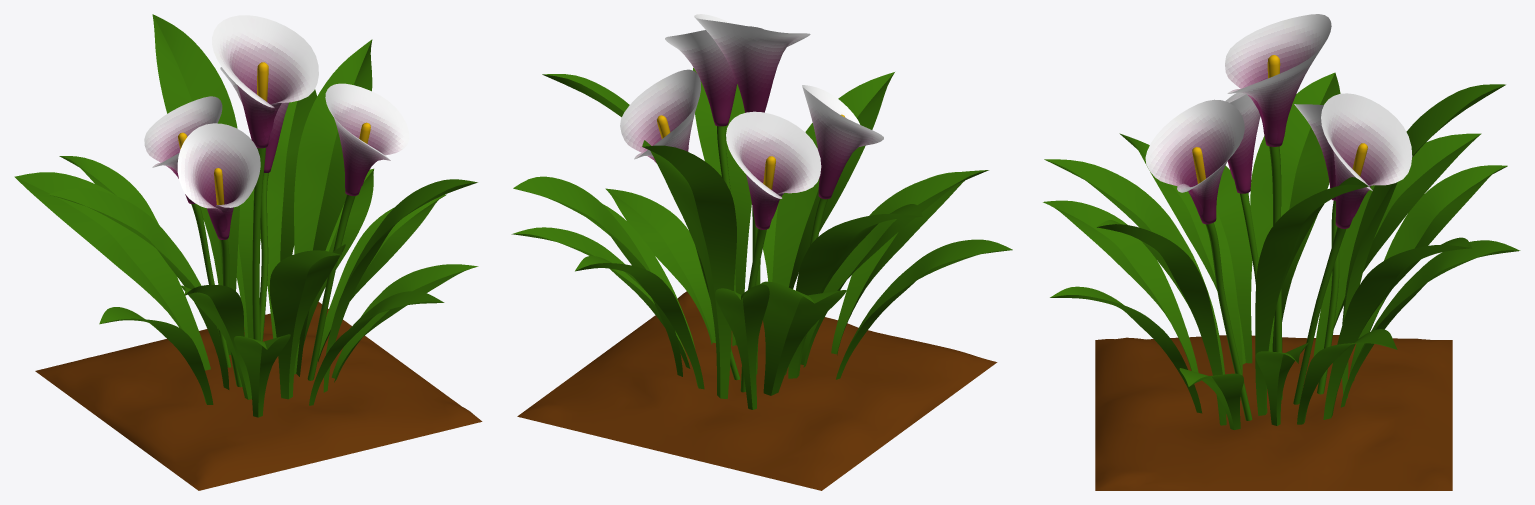
The model's file is purple-white-calla.glb.
3 views of the same model, side by side, from view 1: azimuth 30°, elevation 25°; view 2: azimuth 150°, elevation 25°; view 3: azimuth 270°, elevation 25° (orthographic). The views are drawn at different scales.
Visible parts, largest first — view 1: 4_nft_bloom; view 2: 4_nft_bloom; view 3: 4_nft_bloom.
Boxes of the visible parts, bbox=[...] form: 4_nft_bloom: bbox=[14, 14, 482, 490]; 4_nft_bloom: bbox=[511, 14, 1012, 490]; 4_nft_bloom: bbox=[1043, 14, 1520, 490].
Size of the model in its own units: 0.9841 by 0.8496 by 0.938.
Materials: 4 (1 with a texture image).
